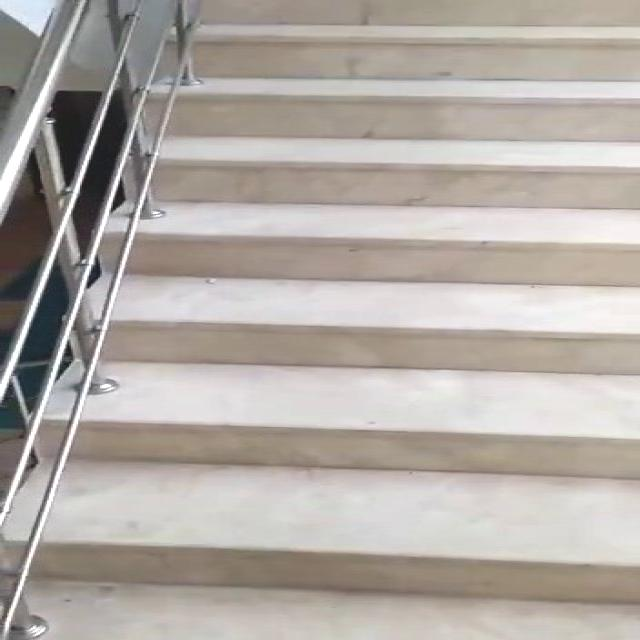stair: (46, 5, 640, 599)
